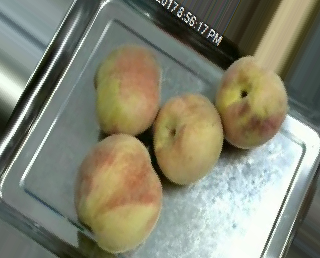Peach: (74, 134, 161, 253), (151, 92, 224, 186), (215, 55, 288, 148), (94, 42, 161, 136)
